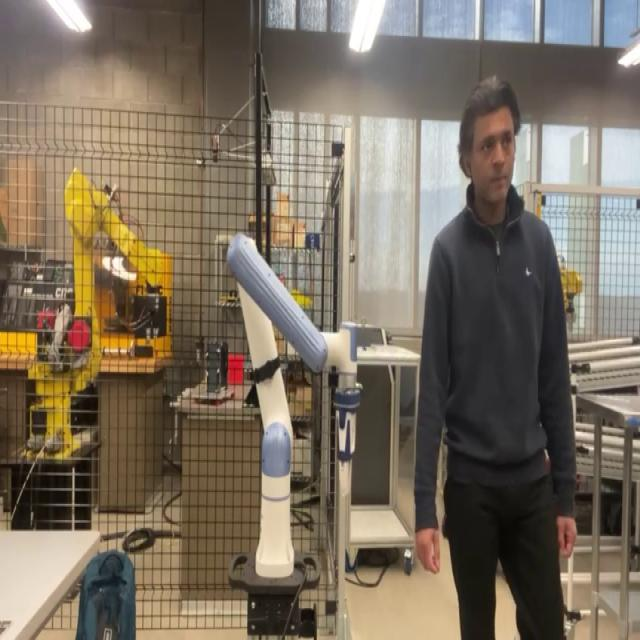human: (413, 75, 579, 637)
